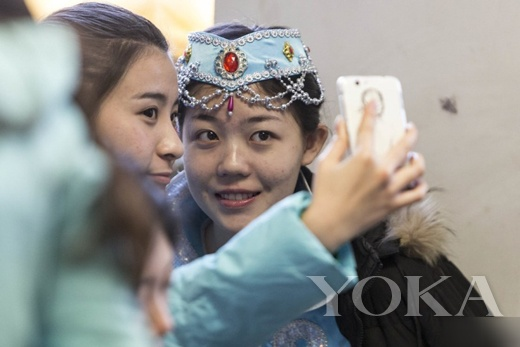face: (179, 85, 305, 229), (69, 51, 186, 205)
